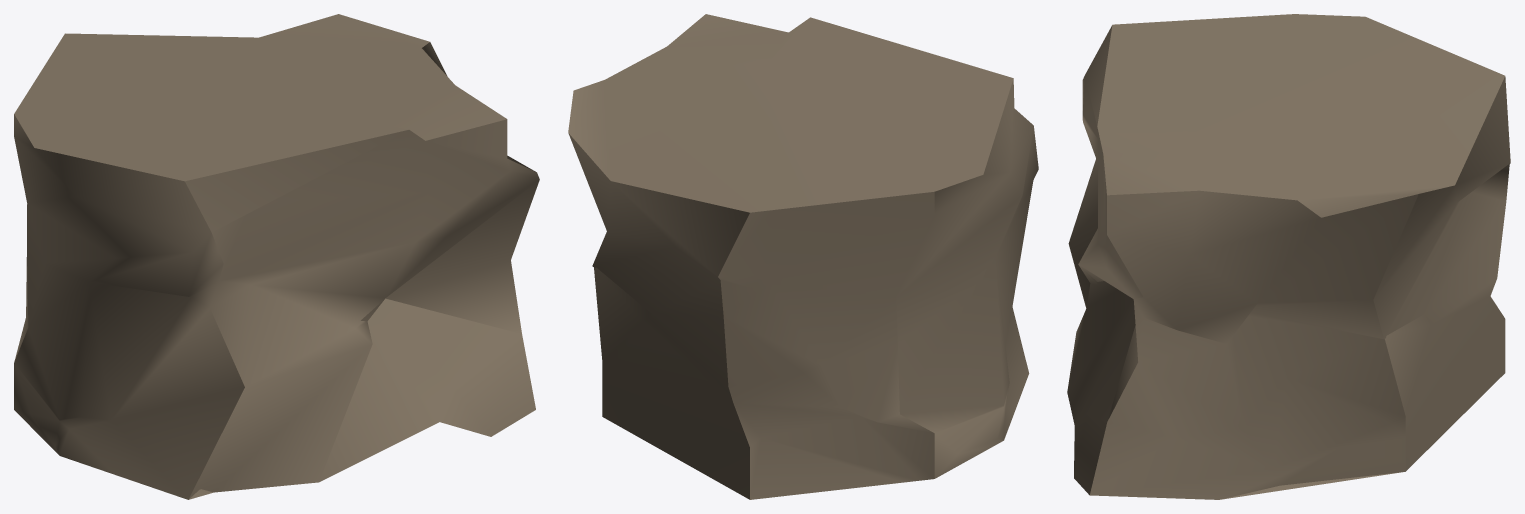
The model's file is One Rock.fbx.
3 renders of one model, left to right at view 1: azimuth 30°, elevation 25°; view 2: azimuth 150°, elevation 25°; view 3: azimuth 270°, elevation 25°, orthographic. The views are drawn at different scales.
Parts seen in each view (by area): view 1: polySurface1; view 2: polySurface1; view 3: polySurface1.
Boxes of the visible parts, box(x1,y1,x2,y2) form: polySurface1: box(14, 14, 539, 499); polySurface1: box(568, 14, 1038, 499); polySurface1: box(1067, 14, 1510, 499).
Size of the model in its own units: 9.6 by 6.92 by 8.59.
